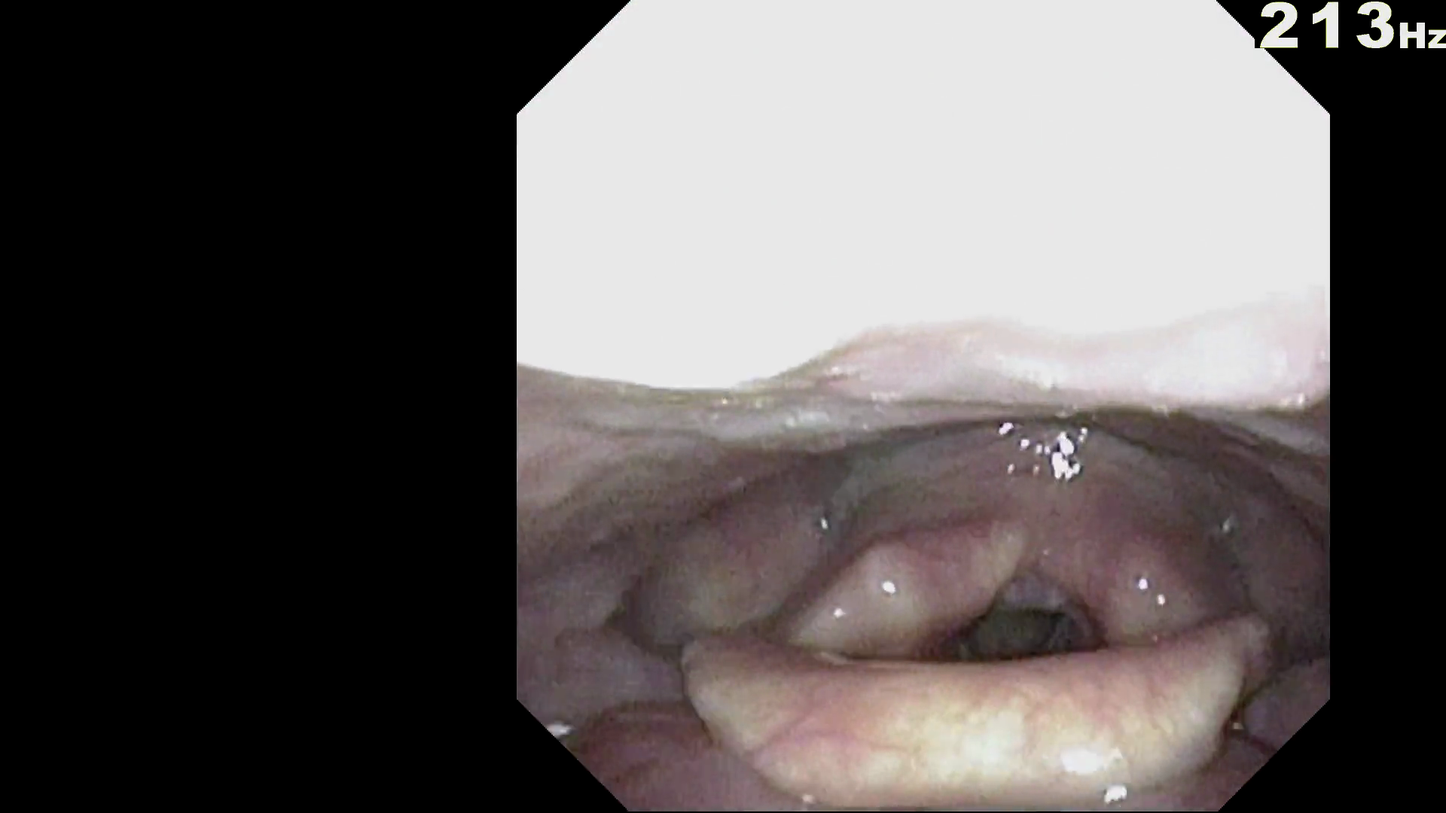epiglottis: (695, 655, 1237, 795)
trachea: (945, 581, 1079, 691)
